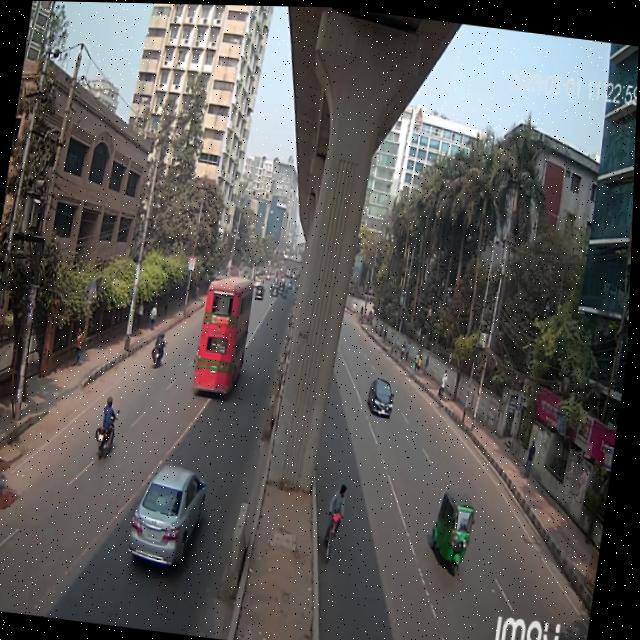cng: (426, 475, 483, 579)
